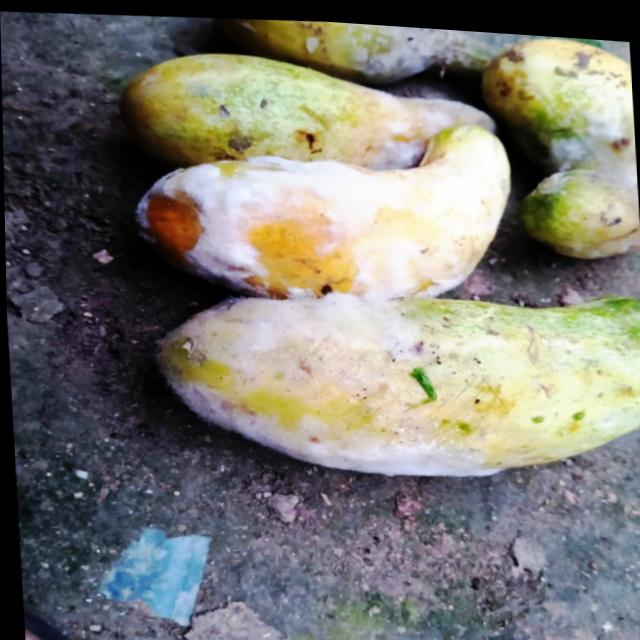Pythium-Fruit-Rot: (148, 272, 505, 486), (122, 121, 504, 311), (525, 39, 639, 239), (340, 73, 506, 175), (324, 17, 524, 84)
